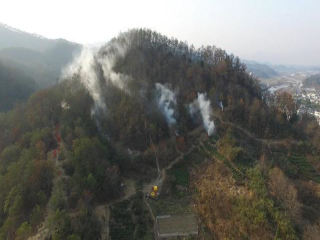smoke: (62, 39, 220, 139)
